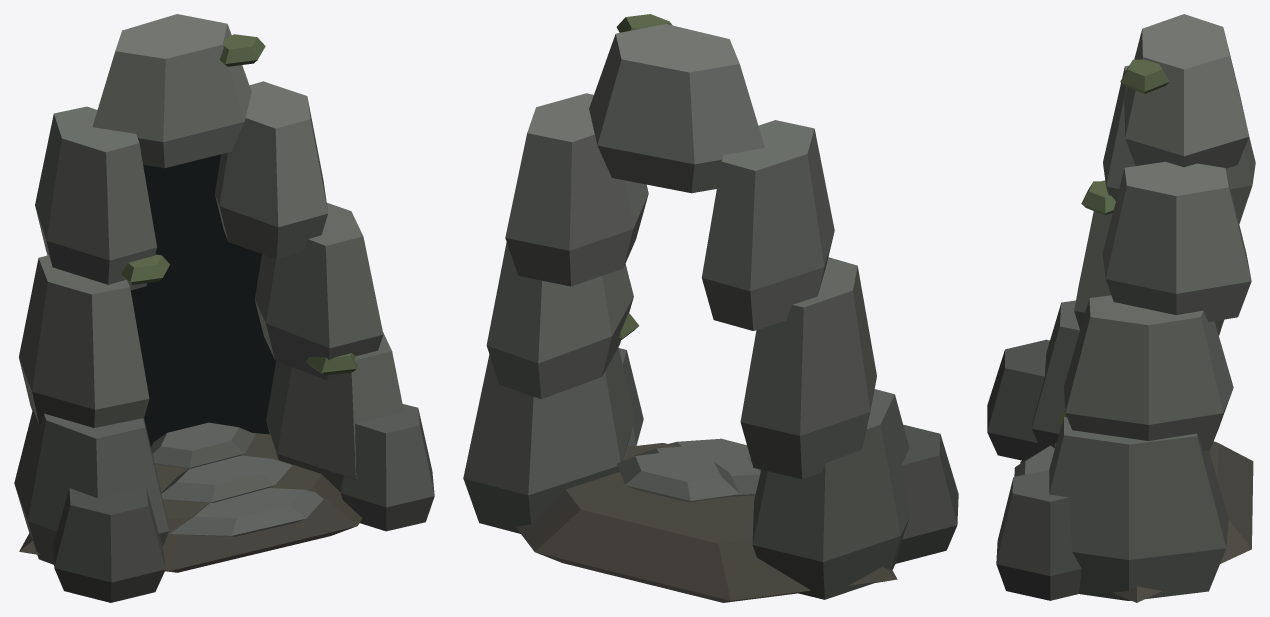
The model's file is rock-fissure.glb.
The picture shows the model from 3 angles, left to right: view 1: azimuth 30°, elevation 25°; view 2: azimuth 150°, elevation 25°; view 3: azimuth 270°, elevation 25°; orthographic projection. The views are drawn at different scales.
Parts seen in each view (by area): view 1: The warm fissure; view 2: The warm fissure; view 3: The warm fissure.
Boxes of the visible parts, bbox=[...] form: The warm fissure: bbox=[14, 14, 434, 602]; The warm fissure: bbox=[463, 14, 958, 602]; The warm fissure: bbox=[987, 14, 1255, 602].
Bounding box in the file's own units: 1.16 × 1.33 × 0.683.
